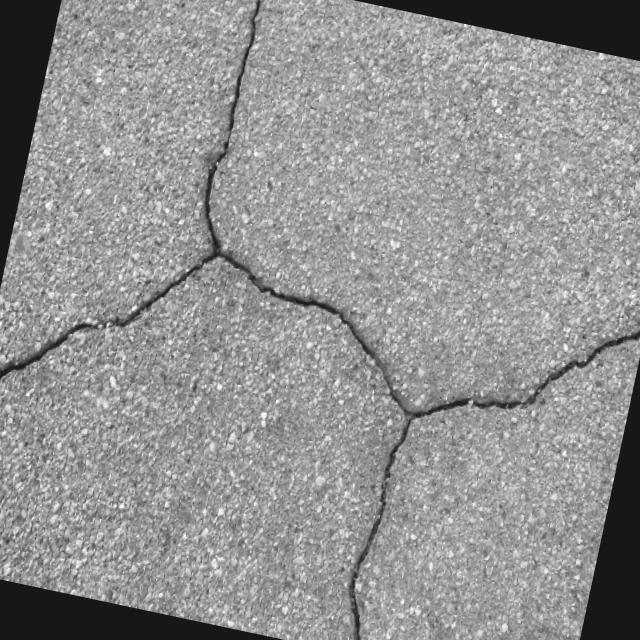crack: (0, 208, 223, 444), (411, 280, 640, 467), (200, 248, 414, 393), (191, 0, 277, 252), (334, 388, 419, 640)
